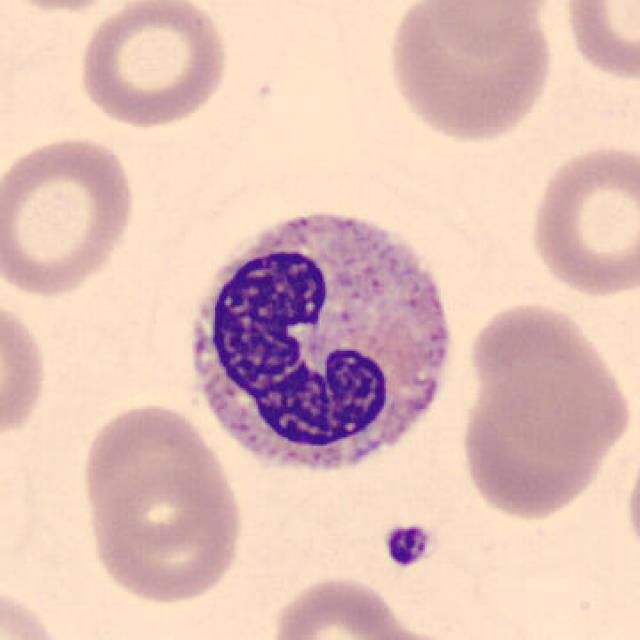Neutrophil: (170, 194, 466, 492)
Platelets: (380, 520, 436, 570)
RBC: (75, 397, 247, 610), (462, 298, 631, 458), (380, 0, 559, 146), (457, 368, 622, 524), (0, 130, 140, 301), (75, 0, 233, 132), (523, 138, 638, 302), (266, 571, 418, 640), (0, 291, 52, 451), (423, 0, 561, 56), (556, 0, 639, 86), (0, 580, 73, 640), (622, 434, 640, 571), (0, 0, 135, 14), (354, 626, 478, 640)
